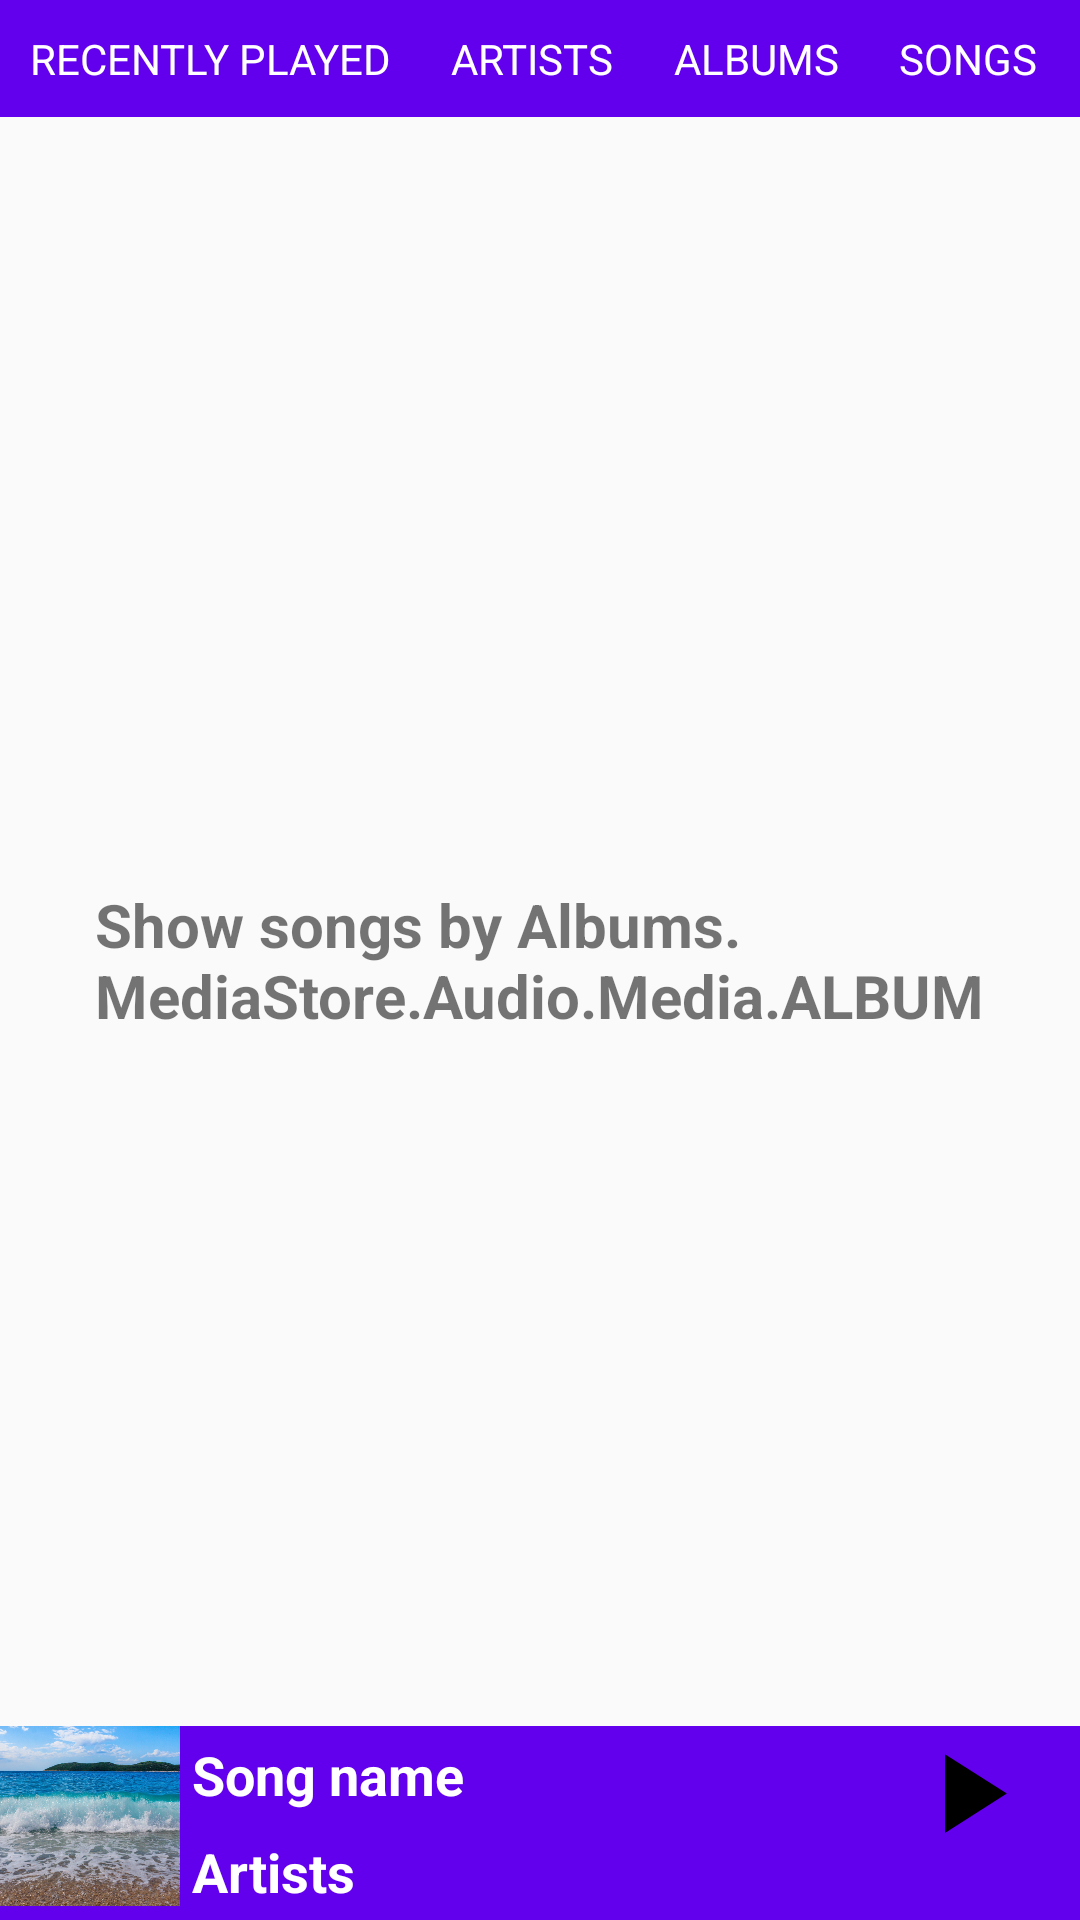

Point at icon controls on the screen. Image size 1080x1920, points as (x,y).
album artwork: (90,1816)
play arrow: (976,1793)
